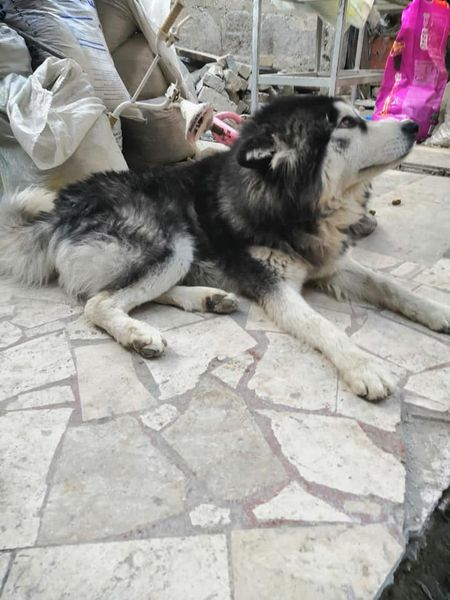dog: (1, 84, 448, 368)
